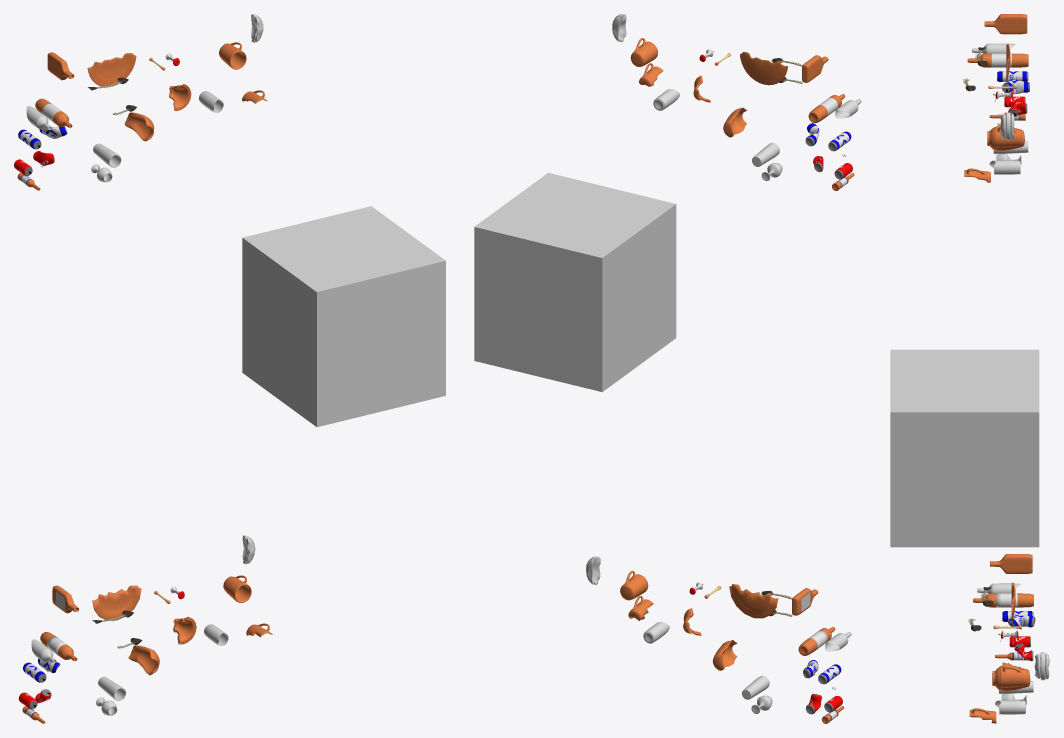
The model's file is Rubbish.fbx.
3 renders of one model, left to right at view 1: azimuth 30°, elevation 25°; view 2: azimuth 150°, elevation 25°; view 3: azimuth 270°, elevation 25°, orthographic.
Parts seen in each view (by area): view 1: Reversed Cube, Broken Plate, High Broken Plate; view 2: Reversed Cube, Broken Plate, High Broken Plate; view 3: Reversed Cube, High Vodka Bottle, Vodka Bottle, Mug, High Wine Bottle, Wine Bottle Low, High Wine Bottle Broke, Wine Bottle Low Broke, Half Eaten Cheeseburger, High Mug, High Half Eaten Cheeseburger, Broken Pottery (+8 smaller).
Part boxes in pixels (x1,y1,x2,y2): Reversed Cube: [242, 206, 445, 427]; Broken Plate: [92, 585, 141, 620]; High Broken Plate: [87, 53, 136, 86]; Reversed Cube: [474, 173, 676, 392]; Broken Plate: [729, 584, 778, 618]; High Broken Plate: [740, 52, 787, 85]; Reversed Cube: [890, 349, 1039, 547]; High Vodka Bottle: [984, 14, 1027, 34]; Vodka Bottle: [990, 554, 1032, 573]; Mug: [1000, 666, 1027, 687]; High Wine Bottle: [967, 53, 1028, 67]; Wine Bottle Low: [973, 593, 1033, 607]; High Wine Bottle Broke: [989, 160, 1020, 174]; Wine Bottle Low Broke: [995, 700, 1025, 714]; Half Eaten Cheeseburger: [1034, 652, 1049, 680]; High Mug: [995, 127, 1021, 147]; High Half Eaten Cheeseburger: [1000, 112, 1014, 140]; Broken Pottery: [992, 665, 1030, 691].
Bounding box in the file's own units: 565 × 990 × 214.
